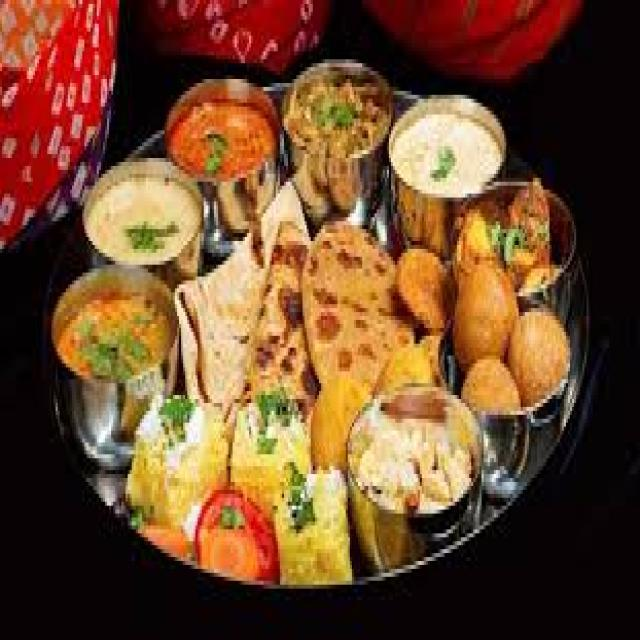curd: (384, 79, 516, 206)
dal: (514, 293, 583, 412)
papad: (171, 237, 292, 417)
rice: (284, 49, 394, 189)
roti: (172, 238, 297, 423), (292, 219, 405, 412)
sweet: (169, 79, 277, 193)
